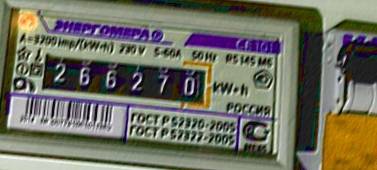0: (183, 75, 198, 96)
2: (52, 62, 69, 83), (130, 70, 146, 91)
6: (78, 64, 93, 87), (105, 68, 120, 90)
7: (156, 73, 170, 93)
screen: (33, 42, 221, 114)
